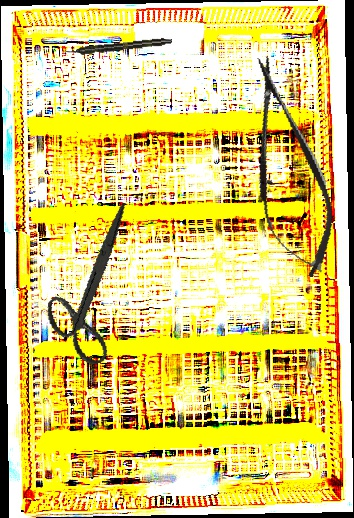Handpiece: (64, 36, 173, 57)
Iris Scissors: (24, 202, 163, 373)
Micro Scissor: (229, 49, 346, 285)
